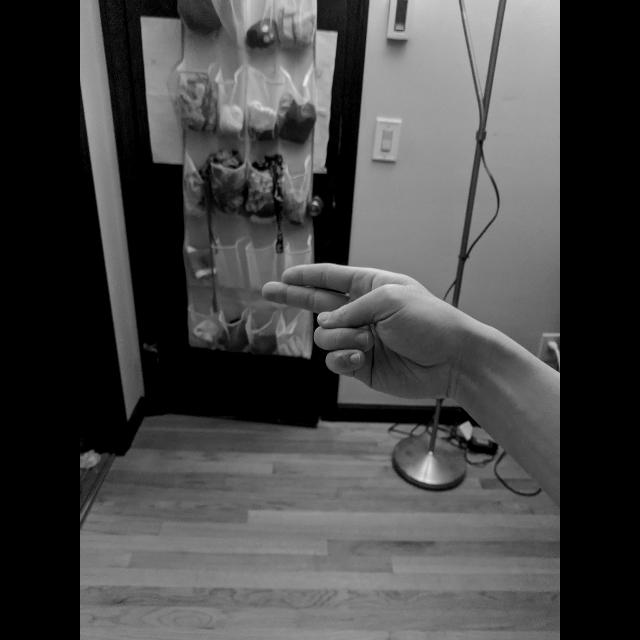H: (256, 258, 457, 409)
